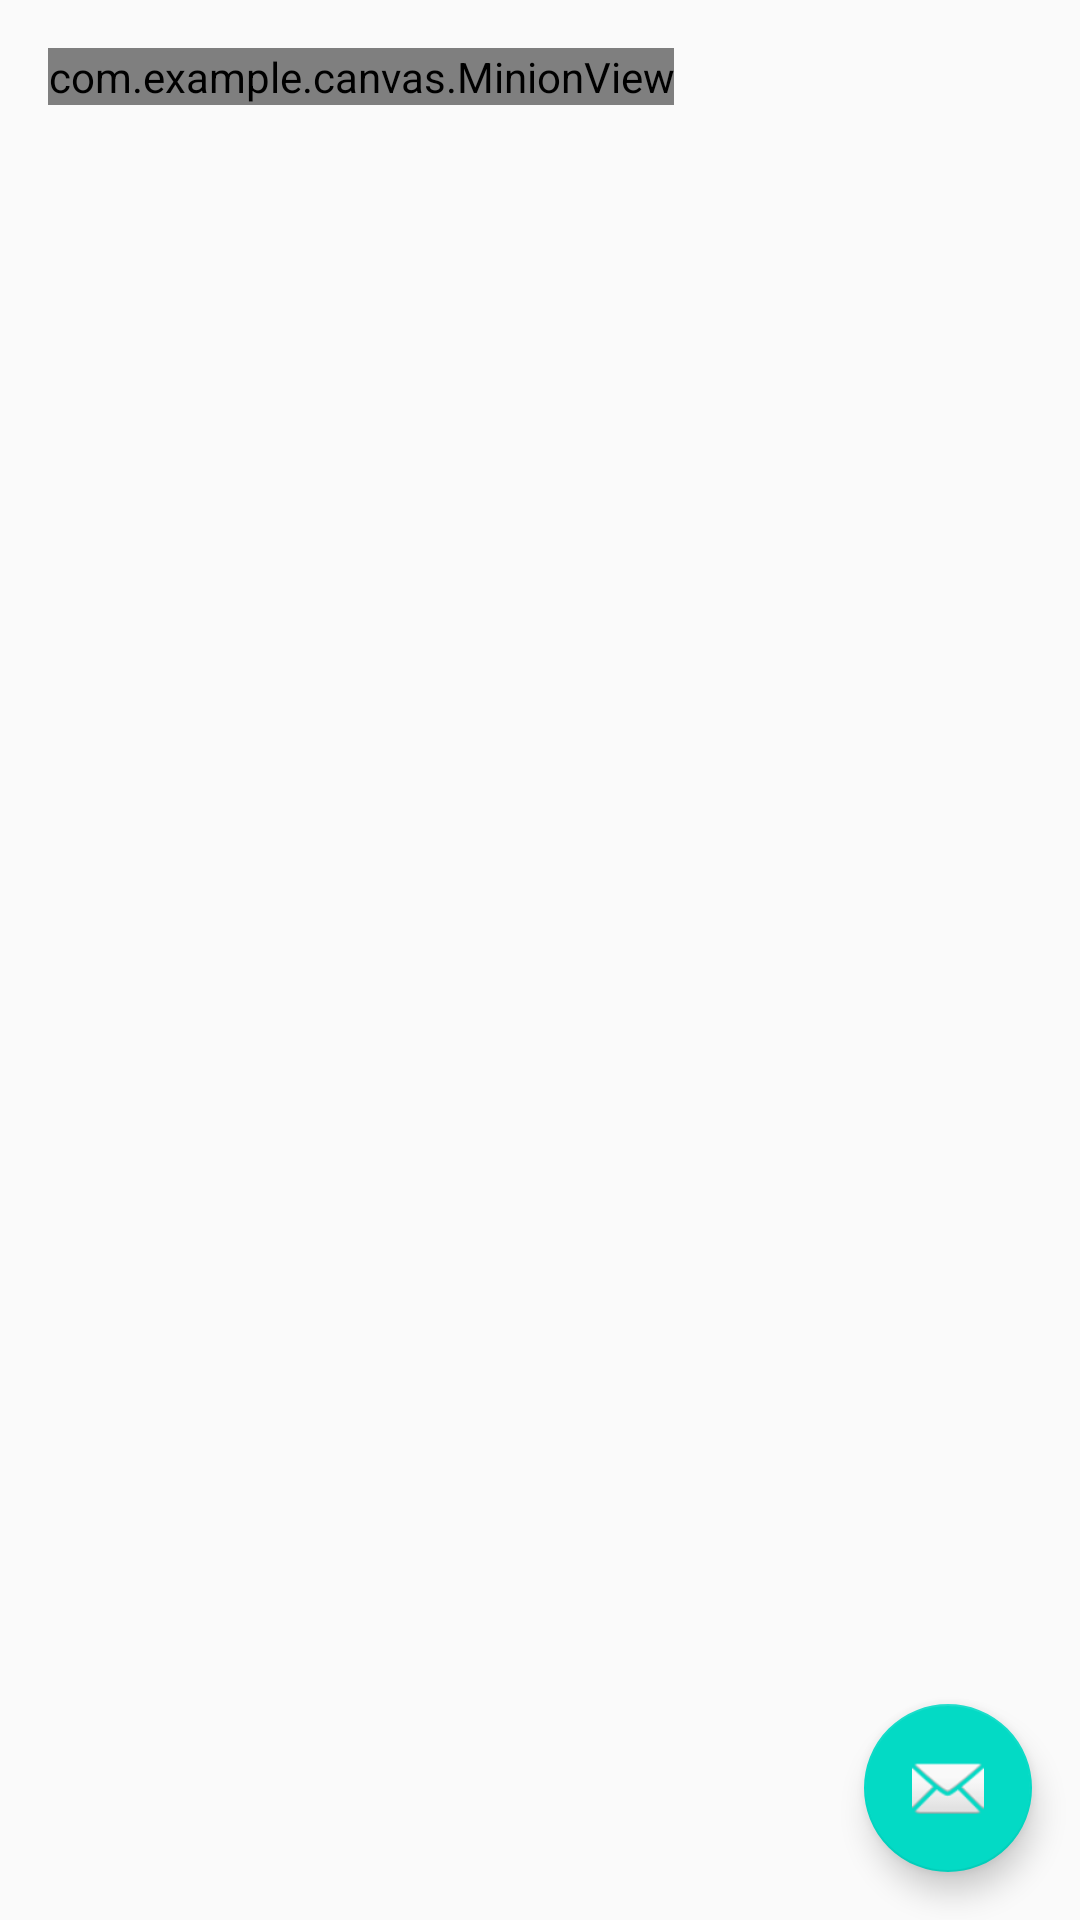

Locate icon controls on the screen. Image size 1080w x 1920h, boxes as (x1, y1, x2, y2).
email: (864, 1704, 1032, 1872)
